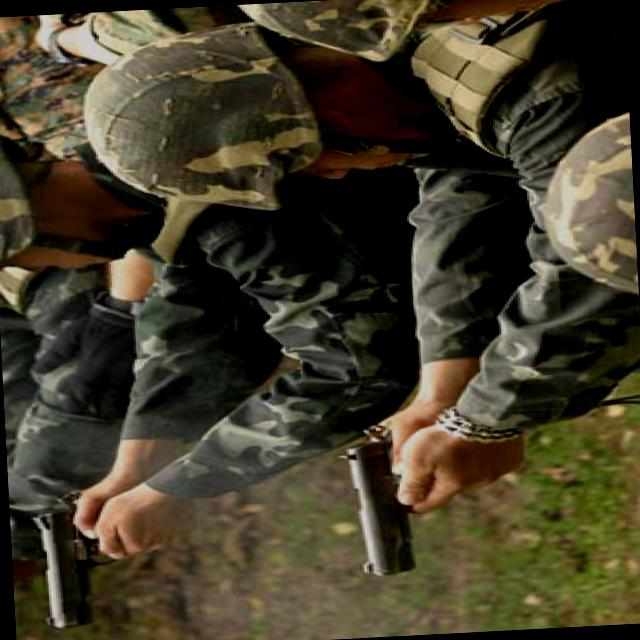handgun: (336, 425, 488, 583), (18, 486, 132, 636)
